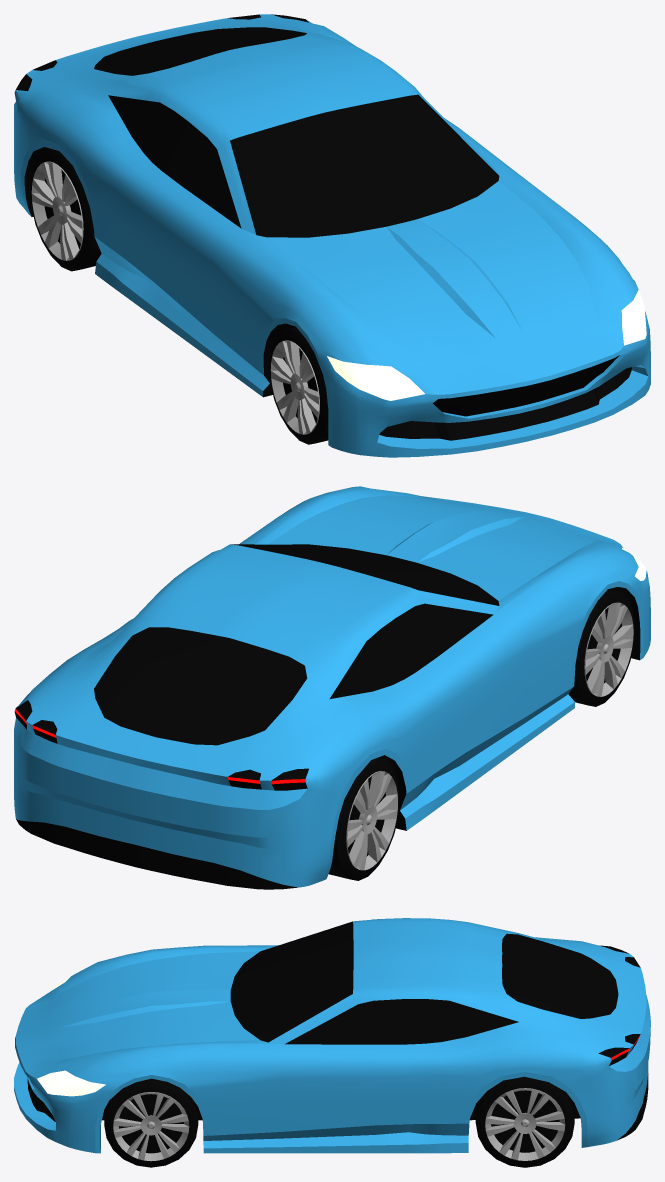
The model's file is low_poly_ferrari_roma.glb.
The picture shows the model from 3 angles, top to bottom: view 1: azimuth 30°, elevation 25°; view 2: azimuth 150°, elevation 25°; view 3: azimuth 270°, elevation 25°; orthographic projection. The views are drawn at different scales.
Visible parts, largest first — view 1: Roma, BR_Wheel, FR_Wheel; view 2: Roma, BR_Wheel, FR_Wheel; view 3: Roma, BL_Wheel, FL_Wheel.
Boxes of the visible parts, x1=… form: Roma: x1=14, y1=14, x2=650, y2=457; BR_Wheel: x1=30, y1=149, x2=101, y2=271; FR_Wheel: x1=269, y1=326, x2=328, y2=444; Roma: x1=14, y1=486, x2=650, y2=889; BR_Wheel: x1=328, y1=758, x2=399, y2=880; FR_Wheel: x1=568, y1=589, x2=635, y2=706; Roma: x1=14, y1=918, x2=650, y2=1153; BL_Wheel: x1=475, y1=1076, x2=574, y2=1167; FL_Wheel: x1=104, y1=1078, x2=198, y2=1167.
Size of the model in its own units: 2.07 by 1.26 by 4.59.
